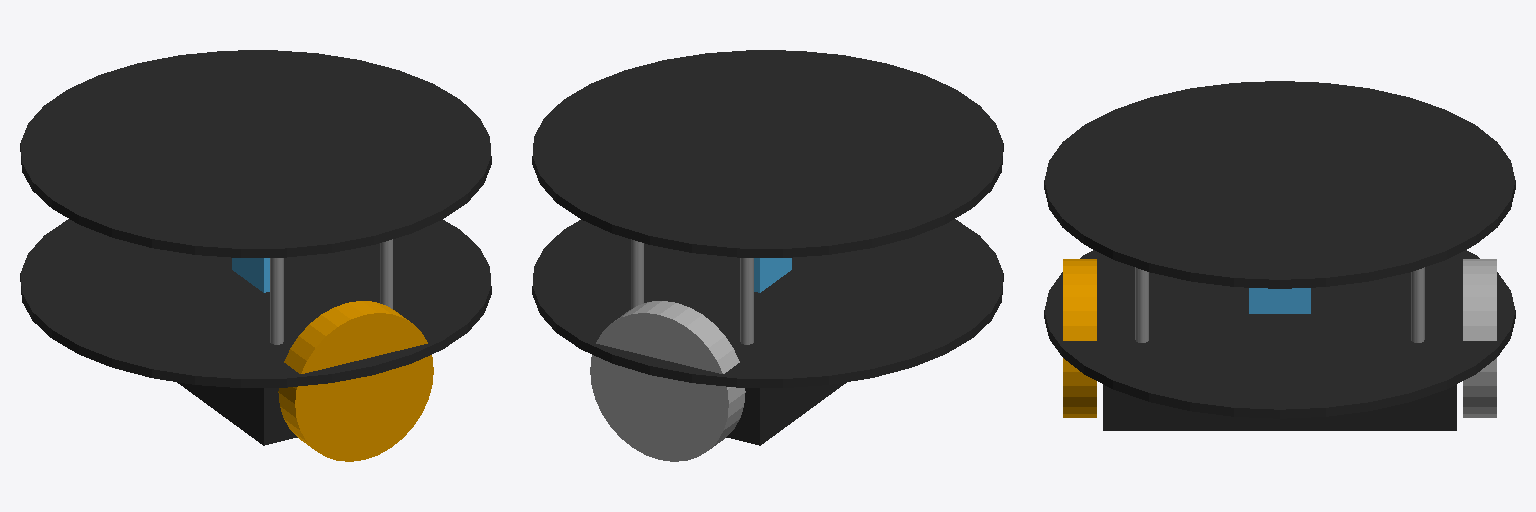
The robot description file, URDF, robot "arlobot":
<?xml version="1.0" ?>
<!-- =================================================================================== -->
<!-- |    This document was autogenerated by xacro from description.xacro              | -->
<!-- |    EDITING THIS FILE BY HAND IS NOT RECOMMENDED                                 | -->
<!-- =================================================================================== -->
<!-- =================================================================================== 
    -->
<!-- |    This document was autogenerated by xacro from [local-path]/catkin_ws/src/ArloBot/src/arlobot/arlobot_description/urdf/common_default.urdf.xacro 
    | -->
<!-- |    EDITING THIS FILE BY HAND IS NOT RECOMMENDED                 
                | -->
<!-- =================================================================================== 
    -->
<robot name="arlobot" xmlns:xacro="http://ros.org/wiki/xacro">
  <!-- 
    A common file to tie together all of the bits and bobs of the entire robot
  
    Modeled after turtlebot_description 
  NOTE: All Gazebo references are gone, 
    so simulation will have to be rebuilt if you want it -->
  <!-- 
    These properties 
    must be observed by any machine
    that wants to be defined as a turtlebot. 
    Refer
    to the REP for more details.
    
    http://www.ros.org/reps/rep-0119.html
 
  -->
  <!-- Macro for ArloBot body. -->
  <!-- 
    These properties must 
    be observed by any machine
    that wants to be defined as a turtlebot. Refer
 
   to the REP for more details.
    
    http://www.ros.org/reps/rep-0119.html
 
  -->
  <material name="Green">
    <color rgba="0.0 0.8 0.0 1.0"/>
  </material>
  <material name="veryDarkGrey">
    <color rgba=".2 .2 .2 1"/>
  </material>
  <material name="light_grey">
    <color rgba="0.6 0.6 0.6 1"/>
  </material>
  <!-- base_footprint is a fictitious link(frame) that is on the ground right below 
    base_link origin, navigation stack depends on this frame -->
  <link name="base_footprint">
    <visual>
      <origin rpy="0 0 0" xyz="0 0 0"/>
      <geometry>
        <box size="0.001 0.001 0.001"/>
      </geometry>
      <material name="Green"/>
    </visual>
    <collision>
      <origin rpy="0 0 0" xyz="0 0 0.017"/>
      <geometry>
        <box size="0.001 0.001 0.001"/>
      </geometry>
    </collision>
  </link>
  <link name="base_link">
    <inertial>
      <mass value="2"/>
      <origin xyz="0 0 0.0"/>
      <inertia ixx="0.01" ixy="0.0" ixz="0.0" iyy="0.01" iyz="0.0" izz="0.5"/>
    </inertial>
    <visual>
      <origin rpy="0 0 0" xyz="0 0 0"/>
      <geometry>
        <cylinder length="0.0095" radius="0.2245"/>
      </geometry>
      <material name="veryDarkGrey"/>
    </visual>
    <collision>
      <origin rpy="0 0 0" xyz="0 0 0"/>
      <geometry>
        <cylinder length="0.0095" radius="0.2245"/>
      </geometry>
    </collision>
  </link>
  <link name="battery_box">
    <inertial>
      <mass value="0.001"/>
      <origin xyz="0 0 0"/>
      <inertia ixx="0.0001" ixy="0.0" ixz="0.0" iyy="0.0001" iyz="0.0" izz="0.0001"/>
    </inertial>
    <visual>
      <origin rpy="0 0 0" xyz="0 0 0"/>
      <geometry>
        <box size="0.1778 0.3366 0.0762"/>
      </geometry>
      <material name="veryDarkGrey"/>
    </visual>
    <collision>
      <origin rpy="0 0 0" xyz="0 0 0"/>
      <geometry>
        <box size="0.1778 0.3366 0.0762"/>
      </geometry>
    </collision>
  </link>
  <joint name="battery_box_joint" type="fixed">
    <origin rpy="0 0 0" xyz="0 0 -0.04285"/>
    <parent link="base_link"/>
    <child link="battery_box"/>
  </joint>
  <link name="front_caster">
    <inertial>
      <mass value="0.001"/>
      <origin xyz="0 0 0"/>
      <inertia ixx="0.0001" ixy="0.0" ixz="0.0" iyy="0.0001" iyz="0.0" izz="0.0001"/>
    </inertial>
    <visual>
      <origin rpy="-1.5707 0 1.5707" xyz="0 0 0"/>
      <geometry>
        <mesh filename="package://arlobot_description/meshes/28971-Caster-Wheel-Kit-v1.0.stl"/>
      </geometry>
      <material name="light_grey">
        <color rgba="0.6 0.6 0.6 1"/>
      </material>
    </visual>
  </link>
  <joint name="front_caster_joint" type="fixed">
    <origin rpy="0 0 0" xyz="0.18745 0 -0.00475"/>
    <parent link="base_link"/>
    <child link="front_caster"/>
  </joint>
  <link name="rear_caster">
    <inertial>
      <mass value="0.001"/>
      <origin xyz="0 0 0"/>
      <inertia ixx="0.0001" ixy="0.0" ixz="0.0" iyy="0.0001" iyz="0.0" izz="0.0001"/>
    </inertial>
    <visual>
      <origin rpy="-1.5707 0 1.5707" xyz="0 0 0"/>
      <geometry>
        <mesh filename="package://arlobot_description/meshes/28971-Caster-Wheel-Kit-v1.0.stl"/>
      </geometry>
      <material name="light_grey">
        <color rgba="0.6 0.6 0.6 1"/>
      </material>
    </visual>
  </link>
  <joint name="rear_caster_joint" type="fixed">
    <origin rpy="0 0 0" xyz="-0.18745 0 -0.00475"/>
    <parent link="base_link"/>
    <child link="rear_caster"/>
  </joint>
  <joint name="base_footprint_joint" type="fixed">
    <origin rpy="0 0 0" xyz="0 0 0.10125"/>
    <parent link="base_footprint"/>
    <child link="base_link"/>
  </joint>
  <link name="left_axle_link">
    <inertial>
      <origin xyz="0 0 0"/>
      <mass value="0.01"/>
      <inertia ixx="0.001" ixy="0.0" ixz="0.0" iyy="0.001" iyz="0.0" izz="0.001"/>
    </inertial>
    <visual>
      <origin rpy="0 1.5707 1.5707" xyz="0 0 0"/>
      <geometry>
        <cylinder length="0.00635" radius="0.00635"/>
      </geometry>
      <material name="light_grey"/>
    </visual>
    <collision>
      <origin rpy="0 1.5707 1.5707" xyz="0 0 0"/>
      <geometry>
        <cylinder length="0.00635" radius="0.00635"/>
      </geometry>
    </collision>
  </link>
  <joint name="left_axle_joint" type="fixed">
    <origin rpy="0 0 0" xyz="0 0.171475 0.0178"/>
    <parent link="battery_box"/>
    <child link="left_axle_link"/>
    <axis xyz="0 1 0"/>
  </joint>
  <link name="right_axle_link">
    <inertial>
      <origin xyz="0 0 0"/>
      <mass value="0.01"/>
      <inertia ixx="0.001" ixy="0.0" ixz="0.0" iyy="0.001" iyz="0.0" izz="0.001"/>
    </inertial>
    <visual>
      <origin rpy="0 1.5707 1.5707" xyz="0 0 0"/>
      <geometry>
        <cylinder length="0.00635" radius="0.00635"/>
      </geometry>
      <material name="light_grey"/>
    </visual>
    <collision>
      <origin rpy="0 1.5707 1.5707" xyz="0 0 0"/>
      <geometry>
        <cylinder length="0.00635" radius="0.00635"/>
      </geometry>
    </collision>
  </link>
  <joint name="right_axle_joint" type="fixed">
    <origin rpy="0 0 0" xyz="0 -0.171475 0.0178"/>
    <parent link="battery_box"/>
    <child link="right_axle_link"/>
    <axis xyz="0 1 0"/>
  </joint>
  <link name="left_wheel_link">
    <inertial>
      <origin xyz="0 0 0"/>
      <mass value="0.01"/>
      <inertia ixx="0.001" ixy="0.0" ixz="0.0" iyy="0.001" iyz="0.0" izz="0.001"/>
    </inertial>
    <visual>
      <origin rpy="0 1.5707 1.5707" xyz="0 0 0"/>
      <geometry>
        <cylinder length="0.03175" radius="0.0762"/>
      </geometry>
      <material name="black"/>
    </visual>
    <collision>
      <origin rpy="0 1.5707 1.5707" xyz="0 0 0"/>
      <geometry>
        <cylinder length="0.03175" radius="0.0762"/>
      </geometry>
    </collision>
  </link>
  <!-- Fixed because we never rotate it anyway, it 
    is just for show -->
  <!-- NOTE This may prevent gazebo from working with this 
    model -->
  <joint name="left_wheel_joint" type="fixed">
    <origin rpy="0 0 0" xyz="0 0.01905 0"/>
    <parent link="left_axle_link"/>
    <child link="left_wheel_link"/>
    <axis xyz="0 1 0"/>
  </joint>
  <link name="right_wheel_link">
    <inertial>
      <origin xyz="0 0 0"/>
      <mass value="0.01"/>
      <inertia ixx="0.001" ixy="0.0" ixz="0.0" iyy="0.001" iyz="0.0" izz="0.001"/>
    </inertial>
    <visual>
      <origin rpy="0 1.5707 1.5707" xyz="0 0 0"/>
      <geometry>
        <cylinder length="0.03175" radius="0.0762"/>
      </geometry>
      <material name="black"/>
    </visual>
    <collision>
      <origin rpy="0 1.5707 1.5707" xyz="0 0 0"/>
      <geometry>
        <cylinder length="0.03175" radius="0.0762"/>
      </geometry>
    </collision>
  </link>
  <!-- Fixed because we never 
    rotate it anyway, it is just for show -->
  <!-- NOTE This may prevent gazebo 
    from working with this model -->
  <joint name="right_wheel_joint" type="fixed">
    <origin rpy="0 0 0" xyz="0 -0.01905 0"/>
    <parent link="right_axle_link"/>
    <child link="right_wheel_link"/>
    <axis xyz="0 1      0"/>
  </joint>
  <!-- This pretends to be in the center in order to aid in 
    calculating degrees from multiple sensors on one fake laser scan -->
  <joint name="ping_array_joint" type="fixed">
    <origin rpy="0 0 0" xyz="0 0      0.03695"/>
    <parent link="base_link"/>
    <child link="ping_sensor_array"/>
  </joint>
  <link name="ping_sensor_array">
    <visual>
      <geometry>
        <box size="0.0174 0.06 0.0644"/>
      </geometry>
    </visual>
    <inertial>
      <mass value="0.001"/>
      <origin xyz="0 0 0"/>
      <inertia ixx="0.0001" ixy="0.0" ixz="0.0" iyy="0.0001" iyz="0.0" izz="0.0001"/>
    </inertial>
  </link>
  <joint name="ir_array_joint" type="fixed">
    <origin rpy="0 0 0" xyz="0 0 0.03695"/>
    <parent link="base_link"/>
    <child link="ir_sensor_array"/>
  </joint>
  <link name="ir_sensor_array">
    <visual>
      <geometry>
        <box size="0.0174 0.06 0.0644"/>
      </geometry>
    </visual>
    <inertial>
      <mass value="0.001"/>
      <origin xyz="0 0 0"/>
      <inertia ixx="0.0001" ixy="0.0" ixz="0.0" iyy="0.0001" iyz="0.0" izz="0.0001"/>
    </inertial>
  </link>
  <!-- XV11 Neato Laser scanner. Hopefully it is exactly 
    in the center. :) -->
  <joint name="neato_laser_joint" type="fixed">
    <!-- Minor adjustments based on ligning up XV11 output with 3D Sensor output 
    -->
    <!-- So if the 3D sensor is misallgined the XV11 is off by the same amount 
    -->
    <origin rpy="-0.025 0 0" xyz="0.015 -0.02 0.11875"/>
    <parent link="base_link"/>
    <child link="neato_laser"/>
  </joint>
  <link name="neato_laser">
    <visual>
      <geometry>
        <box size="0.001 0.001 0.001"/>
      </geometry>
    </visual>
    <inertial>
      <mass value="0.001"/>
      <origin xyz="0 0 0"/>
      <inertia ixx="0.0001" ixy="0.0" ixz="0.0" iyy="0.0001" iyz="0.0" izz="0.0001"/>
    </inertial>
  </link>
  <joint name="plate_0_joint" type="fixed">
    <origin rpy="0 0 0" xyz="0 0 0.1365"/>
    <parent link="base_link"/>
    <child link="plate_0_link"/>
  </joint>
  <link name="plate_0_link">
    <inertial>
      <mass value="0.01"/>
      <origin xyz="0 0 0"/>
      <inertia ixx="0.01" ixy="0.0" ixz="0.0" iyy="0.01" iyz="0.0" izz="0.01"/>
    </inertial>
    <visual>
      <origin rpy="0 0 0" xyz=" 0 0 0 "/>
      <geometry>
        <cylinder length="0.0095" radius="0.2245"/>
      </geometry>
      <material name="veryDarkGrey">
        <color rgba=".2 .2 .2 1"/>
      </material>
    </visual>
    <collision>
      <origin rpy="0 0 0" xyz="0.0 0.0 0.0"/>
      <geometry>
        <cylinder length="0.0095" radius="0.2245"/>
      </geometry>
    </collision>
  </link>
  <joint name="standoff_5in_0_joint" type="fixed">
    <origin rpy="0 0 0" xyz="0.0676402 0.1314196 0.06825"/>
    <parent link="base_link"/>
    <child link="standoff_5in_0_link"/>
  </joint>
  <link name="standoff_5in_0_link">
    <inertial>
      <mass value="0.001"/>
      <origin xyz="0 0 0"/>
      <inertia ixx="0.0001" ixy="0.0" ixz="0.0" iyy="0.0001" iyz="0.0" izz="0.0001"/>
    </inertial>
    <visual>
      <origin rpy="0 0 0" xyz=" 0 0 0 "/>
      <geometry>
        <cylinder length="0.127" radius="0.00635"/>
      </geometry>
      <material name="light_grey">
        <color rgba="0.6 0.6 0.6 1"/>
      </material>
    </visual>
    <collision>
      <origin rpy="0 0 0" xyz="0.0 0.0 0.0"/>
      <geometry>
        <cylinder length="0.127" radius="0.00635"/>
      </geometry>
    </collision>
  </link>
  <joint name="standoff_5in_1_joint" type="fixed">
    <origin rpy="0 0 0" xyz="0.0676402 -0.1314196 0.06825"/>
    <parent link="base_link"/>
    <child link="standoff_5in_1_link"/>
  </joint>
  <link name="standoff_5in_1_link">
    <inertial>
      <mass value="0.001"/>
      <origin xyz="0 0 0"/>
      <inertia ixx="0.0001" ixy="0.0" ixz="0.0" iyy="0.0001" iyz="0.0" izz="0.0001"/>
    </inertial>
    <visual>
      <origin rpy="0 0 0" xyz=" 0 0 0 "/>
      <geometry>
        <cylinder length="0.127" radius="0.00635"/>
      </geometry>
      <material name="light_grey">
        <color rgba="0.6 0.6 0.6 1"/>
      </material>
    </visual>
    <collision>
      <origin rpy="0 0 0" xyz="0.0 0.0 0.0"/>
      <geometry>
        <cylinder length="0.127" radius="0.00635"/>
      </geometry>
    </collision>
  </link>
  <joint name="standoff_5in_2_joint" type="fixed">
    <origin rpy="0 0 0" xyz="-0.052832 -0.1314196 0.06825"/>
    <parent link="base_link"/>
    <child link="standoff_5in_2_link"/>
  </joint>
  <link name="standoff_5in_2_link">
    <inertial>
      <mass value="0.001"/>
      <origin xyz="0 0 0"/>
      <inertia ixx="0.0001" ixy="0.0" ixz="0.0" iyy="0.0001" iyz="0.0" izz="0.0001"/>
    </inertial>
    <visual>
      <origin rpy="0 0 0" xyz=" 0 0 0 "/>
      <geometry>
        <cylinder length="0.127" radius="0.00635"/>
      </geometry>
      <material name="light_grey">
        <color rgba="0.6 0.6 0.6 1"/>
      </material>
    </visual>
    <collision>
      <origin rpy="0 0 0" xyz="0.0 0.0 0.0"/>
      <geometry>
        <cylinder length="0.127" radius="0.00635"/>
      </geometry>
    </collision>
  </link>
  <joint name="standoff_5in_3_joint" type="fixed">
    <origin rpy="0 0 0" xyz="-0.052832 0.1314196 0.06825"/>
    <parent link="base_link"/>
    <child link="standoff_5in_3_link"/>
  </joint>
  <link name="standoff_5in_3_link">
    <inertial>
      <mass value="0.001"/>
      <origin xyz="0 0 0"/>
      <inertia ixx="0.0001" ixy="0.0" ixz="0.0" iyy="0.0001" iyz="0.0" izz="0.0001"/>
    </inertial>
    <visual>
      <origin rpy="0 0 0" xyz=" 0 0 0 "/>
      <geometry>
        <cylinder length="0.127" radius="0.00635"/>
      </geometry>
      <material name="light_grey">
        <color rgba="0.6 0.6 0.6 1"/>
      </material>
    </visual>
    <collision>
      <origin rpy="0 0 0" xyz="0.0 0.0 0.0"/>
      <geometry>
        <cylinder length="0.127" radius="0.00635"/>
      </geometry>
    </collision>
  </link>
  <joint name="camera_rgb_joint" type="fixed">
    <origin rpy="-0.01 0 0" xyz="-0.17745 0.0205 0.2985"/>
    <parent link="base_link"/>
    <child link="camera_rgb_frame"/>
  </joint>
  <link name="camera_rgb_frame"/>
  <joint name="camera_rgb_optical_joint" type="fixed">
    <origin rpy="-1.57079632679 0 -1.57079632679" xyz="0 0 0"/>
    <parent link="camera_rgb_frame"/>
    <child link="camera_rgb_optical_frame"/>
  </joint>
  <link name="camera_rgb_optical_frame"/>
  <joint name="camera_joint" type="fixed">
    <origin rpy="0 0 0" xyz="0 -0.022 0"/>
    <parent link="camera_rgb_frame"/>
    <child link="camera_link"/>
  </joint>
  <link name="camera_link">
    <visual>
      <origin rpy="0 0 0" xyz="-0.015 0.0035 0.004"/>
      <geometry>
        <mesh filename="package://arlobot_description/meshes/sensors/xtion_pro_camera.dae"/>
      </geometry>
    </visual>
    <collision>
      <origin rpy="0 0 0" xyz="0.0 0.0 0.0"/>
      <geometry>
        <box size="0.0730 0.2760 0.0720"/>
      </geometry>
    </collision>
    <inertial>
      <mass value="0.170"/>
      <origin xyz="0 0 0"/>
      <inertia ixx="0.001152600" ixy="0.0" ixz="0.0" iyy="0.000148934" iyz="0.0" izz="0.001154654"/>
    </inertial>
  </link>
  <joint name="camera_depth_joint" type="fixed">
    <origin rpy="0 0 0" xyz="0 0.027 0"/>
    <parent link="camera_rgb_frame"/>
    <child link="camera_depth_frame"/>
  </joint>
  <link name="camera_depth_frame"/>
  <joint name="camera_depth_optical_joint" type="fixed">
    <origin rpy=" -1.57079632679 0 -1.57079632679" xyz="0 0 0"/>
    <parent link="camera_depth_frame"/>
    <child link="camera_depth_optical_frame"/>
  </joint>
  <link name="camera_depth_optical_frame"/>
  <gazebo reference="camera_link">
    <sensor name="camera" type="depth">
      <always_on>true</always_on>
      <update_rate>20.0</update_rate>
      <camera>
        <horizontal_fov>1.0471975512</horizontal_fov>
        <image>
          <format>R8G8B8</format>
          <width>640</width>
          <height>480</height>
        </image>
        <clip>
          <near>0.05</near>
          <far>8.0</far>
        </clip>
      </camera>
      <plugin filename="libgazebo_ros_openni_kinect.so" name="kinect_camera_controller">
        <cameraName>camera</cameraName>
        <alwaysOn>true</alwaysOn>
        <updateRate>10</updateRate>
        <imageTopicName>rgb/image_raw</imageTopicName>
        <depthImageTopicName>depth/image_raw</depthImageTopicName>
        <pointCloudTopicName>depth/points</pointCloudTopicName>
        <cameraInfoTopicName>rgb/camera_info</cameraInfoTopicName>
        <depthImageCameraInfoTopicName>depth/camera_info</depthImageCameraInfoTopicName>
        <frameName>camera_depth_optical_frame</frameName>
        <baseline>0.1</baseline>
        <distortion_k1>0.0</distortion_k1>
        <distortion_k2>0.0</distortion_k2>
        <distortion_k3>0.0</distortion_k3>
        <distortion_t1>0.0</distortion_t1>
        <distortion_t2>0.0</distortion_t2>
        <pointCloudCutoff>0.4</pointCloudCutoff>
      </plugin>
    </sensor>
  </gazebo>
  <!-- Asus mount -->
  <joint name="mount_asus_xtion_pro_joint" type="fixed">
    <origin rpy="0 0 0" xyz="-0.1024 0.0 0.272"/>
    <parent link="base_link"/>
    <child link="mount_asus_xtion_pro_link"/>
  </joint>
  <link name="mount_asus_xtion_pro_link">
    <visual>
      <origin rpy="-1.57079632679 0 0" xyz="0 0 0"/>
      <geometry>
        <mesh filename="package://arlobot_description/meshes/sensors/xtion_pro_stack.dae"/>
      </geometry>
    </visual>
    <collision>
      <origin rpy="0 0 0" xyz="0.0 0.0 0.0"/>
      <geometry>
        <box size="0.0330 0.2760 0.0120"/>
      </geometry>
    </collision>
    <inertial>
      <mass value="0.170"/>
      <origin xyz="0 0 0"/>
      <inertia ixx="0.001152600" ixy="0.0" ixz="0.0" iyy="0.000148934" iyz="0.0" izz="0.001154654"/>
    </inertial>
  </link>
</robot>

--- Render facts (derived) ---
3 views of the same robot in one strip: view 1: azimuth 30°, elevation 25°; view 2: azimuth 150°, elevation 25°; view 3: azimuth 270°, elevation 25° (orthographic).
Model arlobot with 23 links and 22 joints (22 fixed), rooted at base_footprint, posed every joint at zero.
Links seen in each view (by area): view 1: plate_0_link, base_link, right_wheel_link, battery_box, standoff_5in_2_link, ping_sensor_array, standoff_5in_1_link; view 2: plate_0_link, base_link, left_wheel_link, battery_box, standoff_5in_3_link, ping_sensor_array, standoff_5in_0_link; view 3: plate_0_link, base_link, battery_box, left_wheel_link, right_wheel_link, ping_sensor_array, standoff_5in_0_link, standoff_5in_1_link.
Link boxes in pixels (bbox=[...]): plate_0_link: bbox=[20, 50, 491, 257]; base_link: bbox=[20, 219, 491, 387]; right_wheel_link: bbox=[278, 301, 433, 461]; battery_box: bbox=[177, 382, 297, 445]; standoff_5in_2_link: bbox=[270, 258, 283, 344]; ping_sensor_array: bbox=[232, 258, 269, 292]; standoff_5in_1_link: bbox=[380, 239, 392, 308]; plate_0_link: bbox=[532, 50, 1003, 257]; base_link: bbox=[532, 219, 1003, 387]; left_wheel_link: bbox=[590, 301, 745, 461]; battery_box: bbox=[726, 382, 846, 445]; standoff_5in_3_link: bbox=[740, 258, 753, 344]; ping_sensor_array: bbox=[754, 258, 791, 292]; standoff_5in_0_link: bbox=[631, 239, 643, 308]; plate_0_link: bbox=[1044, 81, 1515, 288]; base_link: bbox=[1044, 250, 1515, 418]; battery_box: bbox=[1103, 384, 1456, 430]; left_wheel_link: bbox=[1463, 259, 1496, 417]; right_wheel_link: bbox=[1063, 259, 1096, 417]; ping_sensor_array: bbox=[1249, 288, 1310, 313]; standoff_5in_0_link: bbox=[1411, 267, 1424, 342]; standoff_5in_1_link: bbox=[1135, 267, 1148, 342].
Size in the robot's own frame: 0.449 by 0.449 by 0.243 metres.
0 mesh visuals loaded from 3 distinct referenced files (none loaded); not drawn: 4 (reference not matched to a file when rendering).